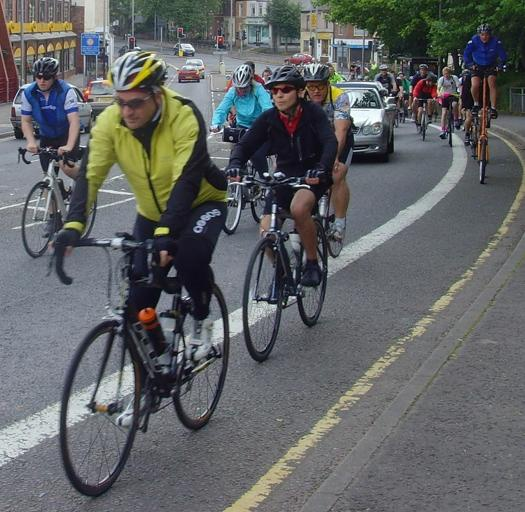non-vehicle: (46, 223, 231, 496), (230, 166, 331, 360), (14, 147, 99, 260)
